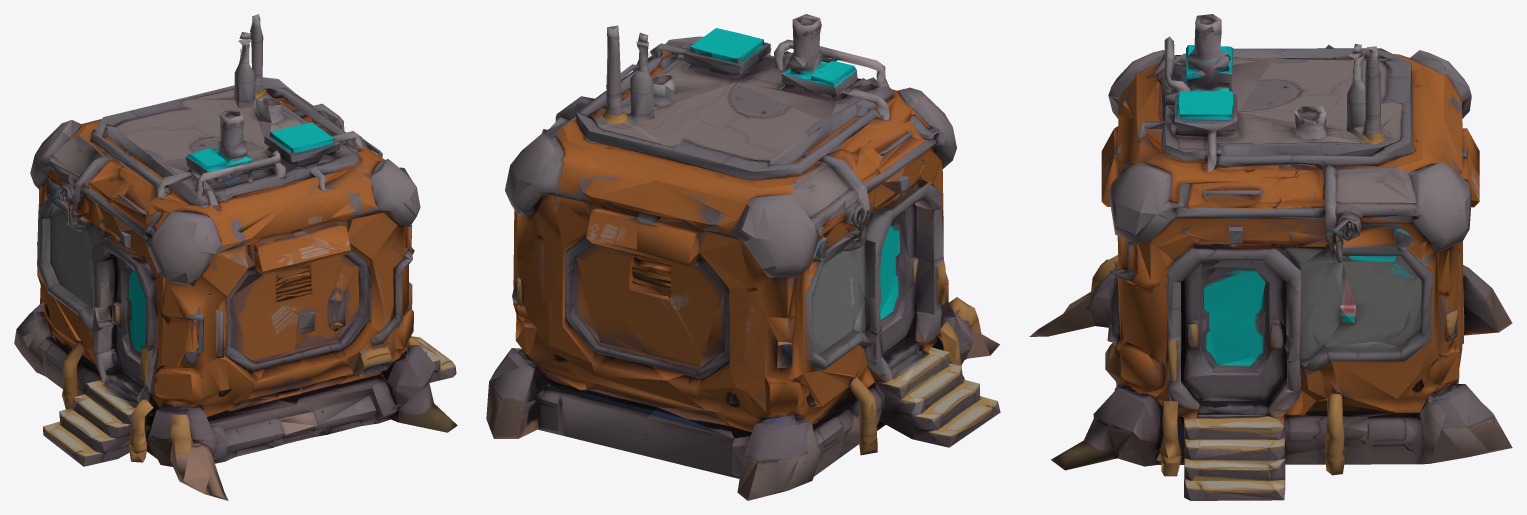
The model's file is room-single.fbx.
3 renders of one model, left to right at view 1: azimuth 30°, elevation 25°; view 2: azimuth 150°, elevation 25°; view 3: azimuth 270°, elevation 25°, orthographic. The views are drawn at different scales.
Visible parts, largest first — view 1: tripo_node_34655dc9; view 2: tripo_node_34655dc9; view 3: tripo_node_34655dc9.
Part boxes in pixels (x1=…): tripo_node_34655dc9: x1=14, y1=14, x2=457, y2=500; tripo_node_34655dc9: x1=486, y1=14, x2=1000, y2=500; tripo_node_34655dc9: x1=1029, y1=14, x2=1512, y2=500.
Size of the model in its own units: 99.84 by 84.72 by 95.41.
Materials: 1 (1 with a texture image).
